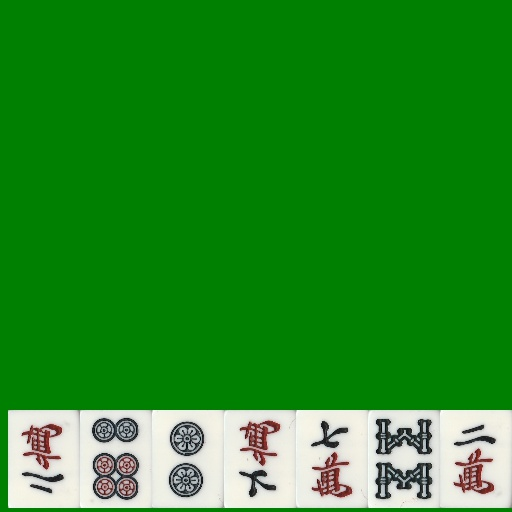2m: (8, 410, 80, 508), (440, 410, 512, 508)
2p: (152, 410, 224, 508)
6p: (80, 410, 152, 508)
7m: (224, 410, 296, 508), (296, 410, 368, 508)
8s: (368, 410, 440, 508)
